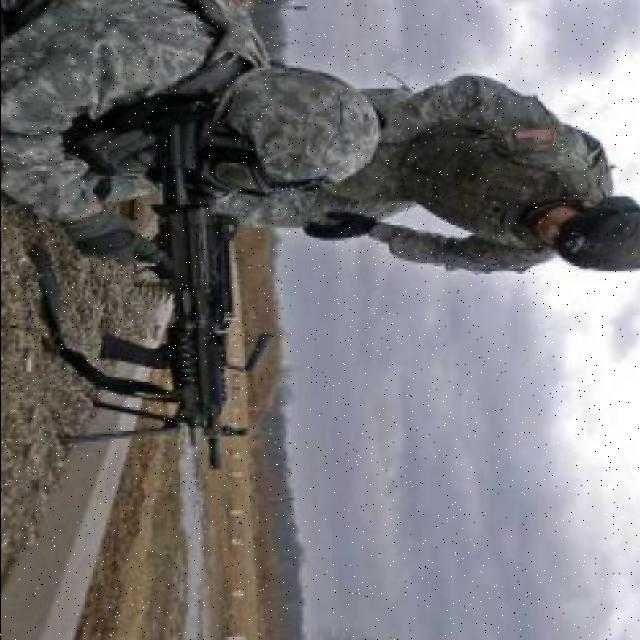Rifle: (56, 87, 272, 471)
